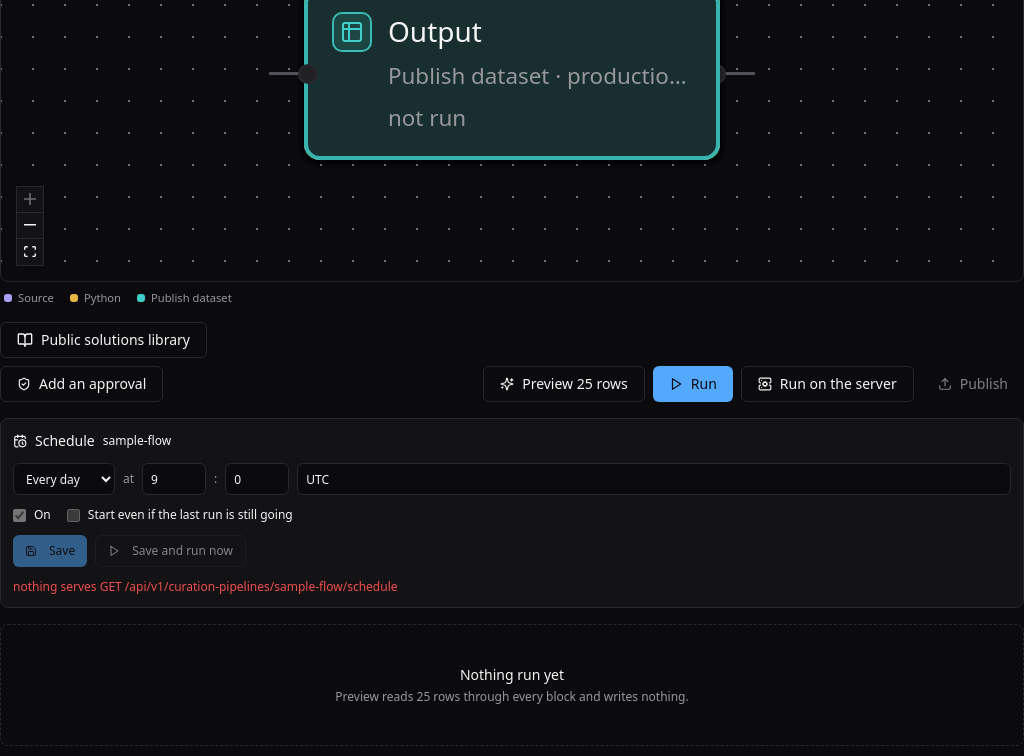
does not fall back to ordinary publication on an older backend (recipe: false)
(page scrolled)
Click the button "Preview 25 rows" at (564, 384), box [483,366,645,402]
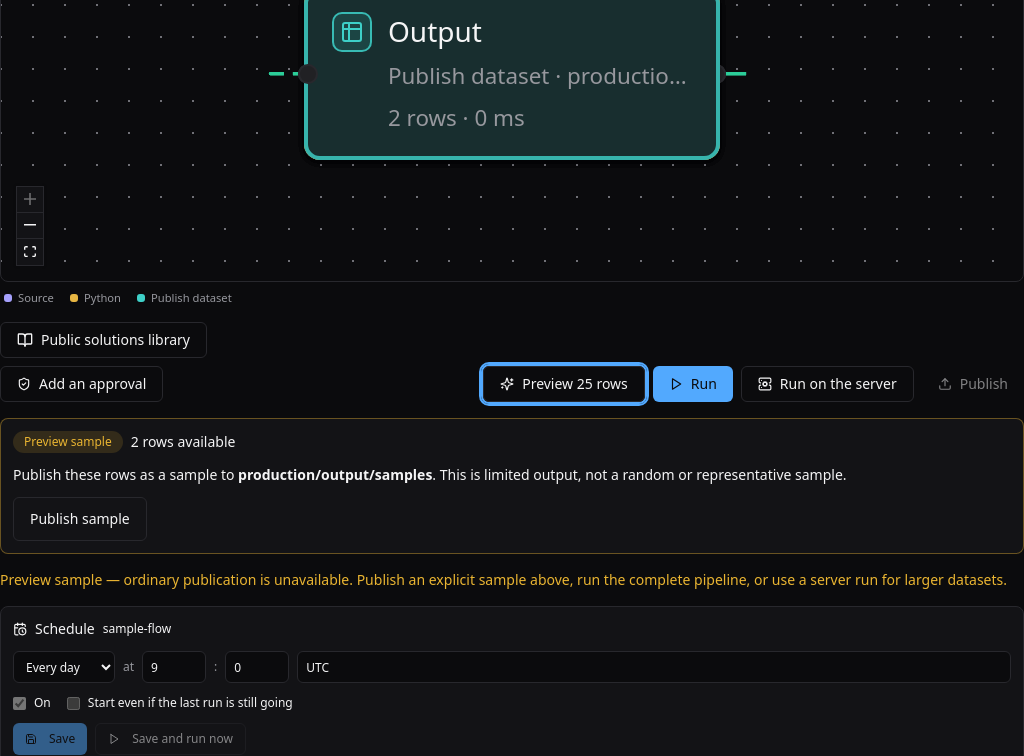
Click the button "Publish sample" at (80, 519), box [13,497,147,541]
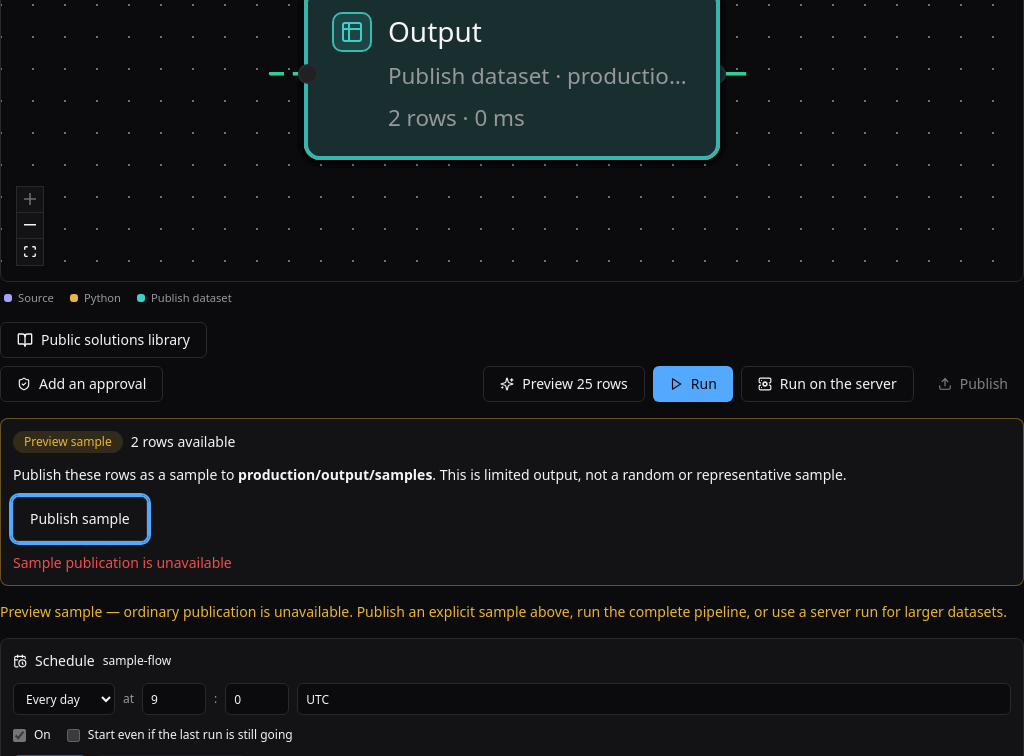
expect the text "Sample publication is unavailable" is shown: met, box [13,553,232,572]
